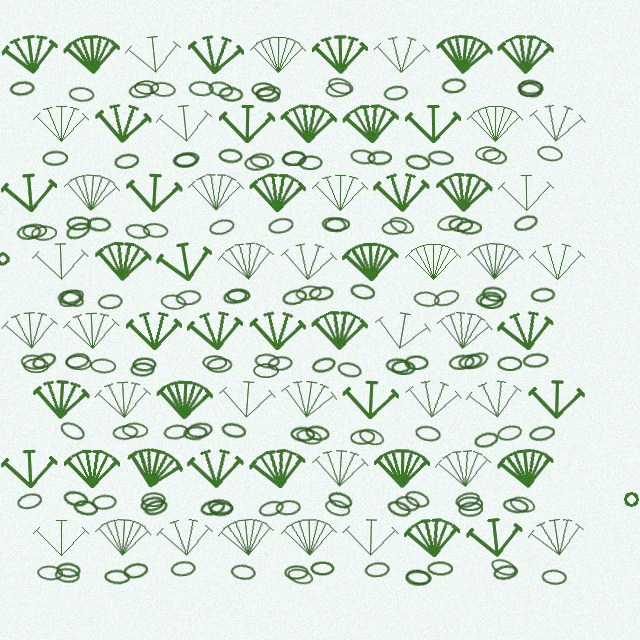chain: (57, 286, 86, 310), (58, 419, 87, 443), (387, 214, 416, 237), (462, 349, 491, 372), (489, 556, 518, 579), (64, 219, 92, 242), (326, 75, 355, 97), (432, 287, 461, 309), (357, 426, 386, 448), (323, 497, 352, 519), (512, 212, 540, 234), (58, 288, 86, 310), (30, 350, 58, 372), (326, 489, 354, 511), (385, 498, 413, 520), (403, 488, 431, 510), (257, 498, 286, 519), (508, 494, 537, 515), (142, 497, 170, 518), (286, 566, 314, 587), (208, 217, 236, 237), (436, 213, 464, 233), (310, 355, 338, 375), (295, 427, 323, 447), (207, 79, 234, 99), (281, 287, 308, 307), (336, 360, 363, 380), (473, 430, 500, 450), (496, 423, 523, 443), (16, 491, 43, 511), (139, 494, 166, 514), (454, 490, 481, 510), (173, 150, 201, 169), (536, 144, 564, 163), (267, 216, 295, 235), (414, 424, 442, 443), (528, 424, 556, 443), (255, 84, 282, 103), (516, 80, 543, 99), (481, 147, 508, 166), (124, 222, 151, 241), (222, 287, 249, 306), (349, 282, 376, 301), (64, 351, 91, 370), (457, 352, 484, 371), (220, 421, 247, 440), (72, 498, 99, 517), (62, 489, 89, 508), (199, 498, 226, 517), (394, 494, 421, 513), (122, 561, 149, 580), (492, 563, 519, 582), (349, 148, 377, 166), (254, 86, 281, 104), (113, 152, 140, 170), (427, 149, 454, 167), (404, 153, 431, 171), (160, 293, 187, 311), (295, 284, 322, 302), (413, 290, 440, 308), (475, 290, 502, 308), (20, 353, 47, 371), (448, 353, 475, 371), (186, 421, 213, 439), (304, 424, 331, 442), (502, 497, 529, 515), (405, 568, 432, 586), (383, 84, 409, 102), (518, 80, 544, 98), (281, 149, 307, 167), (16, 223, 42, 241), (57, 288, 83, 306), (481, 285, 507, 303), (163, 423, 189, 441), (230, 563, 256, 581), (68, 86, 95, 103), (149, 81, 176, 98), (325, 81, 352, 98), (142, 222, 169, 239), (381, 219, 408, 236), (175, 289, 202, 306), (65, 354, 92, 371), (522, 352, 549, 369), (112, 424, 139, 441), (9, 80, 35, 97), (128, 82, 154, 99), (188, 80, 214, 97), (441, 77, 467, 94), (249, 152, 275, 169), (86, 216, 112, 233), (321, 216, 347, 233), (97, 293, 123, 310), (308, 285, 334, 302), (267, 355, 293, 372), (385, 357, 411, 374), (207, 498, 233, 515), (275, 499, 301, 516), (54, 567, 80, 584), (170, 560, 196, 577), (364, 561, 390, 578), (206, 357, 233, 373), (218, 86, 244, 102), (42, 150, 68, 166), (172, 152, 198, 168), (31, 225, 57, 241), (530, 287, 556, 303), (90, 358, 116, 374), (254, 353, 280, 369), (122, 422, 148, 438), (91, 494, 117, 510), (37, 565, 63, 581), (104, 569, 130, 585), (541, 569, 567, 585), (518, 79, 543, 95), (244, 155, 269, 171), (218, 148, 243, 164), (367, 150, 392, 166), (22, 223, 47, 239), (183, 425, 208, 441), (290, 426, 315, 442), (350, 429, 375, 445), (209, 501, 234, 517), (458, 501, 483, 517), (56, 562, 81, 578), (405, 570, 430, 586), (475, 146, 501, 161), (324, 217, 350, 232), (456, 220, 482, 235), (23, 358, 49, 373), (253, 363, 279, 378), (457, 496, 483, 511), (427, 561, 453, 576), (134, 80, 159, 95), (251, 82, 276, 97), (282, 151, 307, 166), (298, 155, 323, 170), (66, 216, 91, 231), (448, 217, 473, 232), (226, 288, 251, 303), (479, 294, 504, 309), (132, 357, 157, 372), (130, 362, 155, 377), (202, 355, 227, 370), (404, 355, 429, 370), (391, 360, 416, 375), (497, 356, 522, 371), (141, 492, 166, 507), (310, 561, 335, 576), (284, 565, 309, 580)
fan: (122, 442, 186, 495), (154, 237, 216, 287), (371, 306, 433, 356), (0, 30, 61, 79), (278, 375, 339, 424), (464, 375, 525, 424), (526, 513, 587, 562), (434, 307, 494, 355), (496, 307, 556, 355), (248, 445, 308, 493), (434, 31, 494, 78), (527, 100, 587, 147), (403, 376, 463, 423), (496, 445, 556, 492), (465, 514, 525, 561), (124, 31, 183, 78), (155, 100, 214, 147), (217, 238, 276, 285), (217, 514, 276, 561), (186, 32, 245, 78), (0, 170, 59, 216), (62, 170, 121, 216), (279, 239, 338, 285), (186, 308, 245, 354), (434, 446, 493, 492), (403, 515, 462, 561), (63, 32, 121, 77), (94, 101, 152, 146), (435, 170, 493, 215), (94, 239, 152, 284), (466, 239, 524, 284), (1, 308, 59, 353), (32, 377, 90, 422), (218, 377, 276, 422), (311, 446, 369, 491), (94, 515, 152, 560), (156, 515, 214, 560), (342, 102, 400, 146), (125, 171, 183, 215), (94, 378, 152, 422), (373, 33, 430, 77), (280, 102, 337, 146), (249, 171, 306, 215), (342, 240, 399, 284), (63, 309, 120, 353), (249, 309, 306, 353), (156, 378, 213, 422), (342, 378, 399, 422), (1, 447, 58, 491), (497, 33, 554, 76), (373, 171, 430, 214), (32, 240, 89, 283), (311, 309, 368, 352), (528, 378, 585, 421), (187, 447, 244, 490), (342, 516, 399, 559), (312, 33, 368, 76), (188, 171, 244, 214), (374, 447, 430, 490), (281, 516, 337, 559), (250, 34, 306, 76), (33, 103, 89, 145), (219, 103, 275, 145), (405, 103, 461, 145), (467, 103, 523, 145), (312, 172, 368, 214), (498, 172, 554, 214), (405, 241, 461, 283), (529, 241, 585, 283), (126, 310, 182, 352), (64, 448, 120, 490), (33, 517, 89, 559)
noise: (622, 490, 640, 509), (0, 250, 11, 267)
